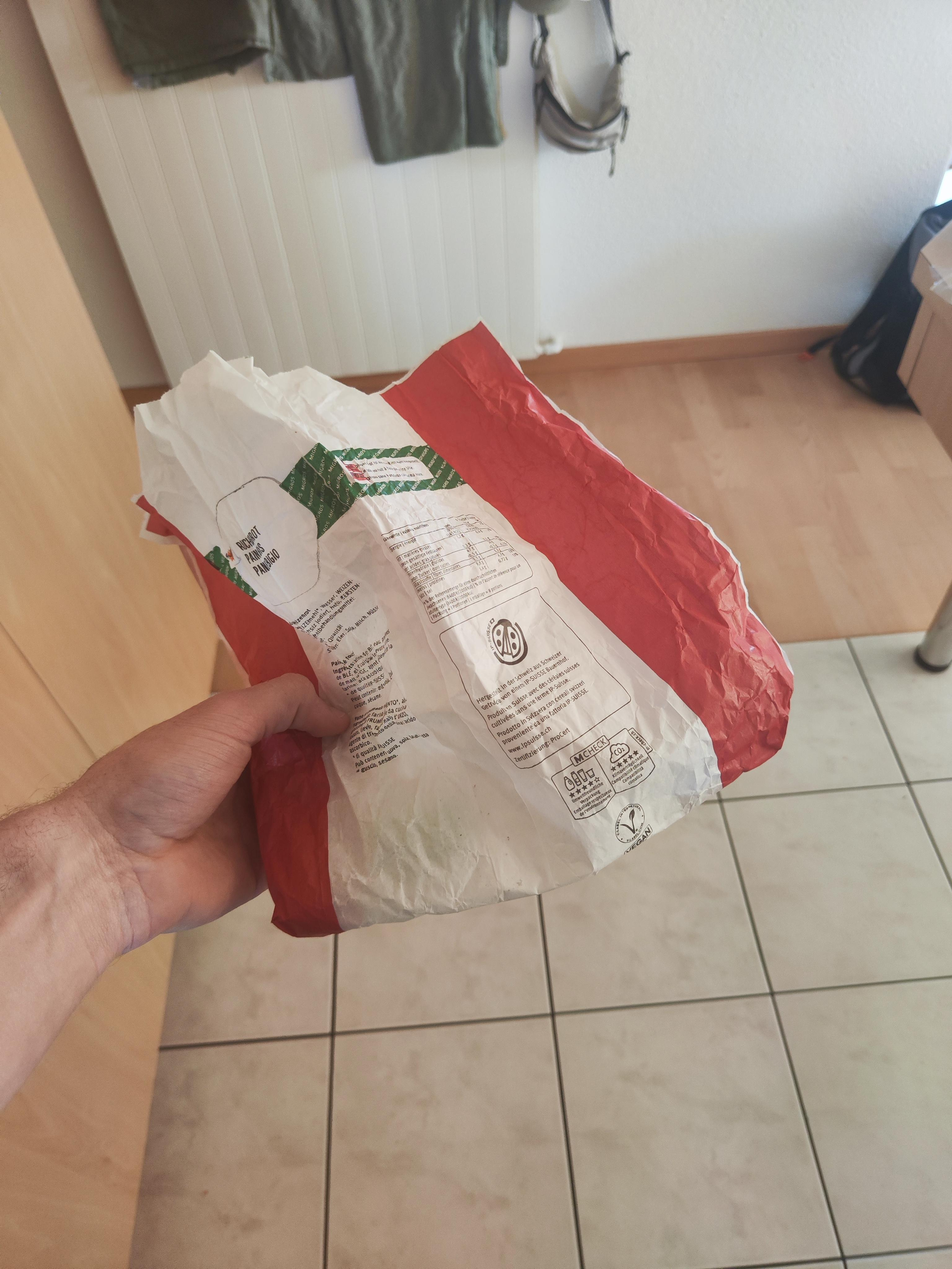Paper: (135, 313, 796, 939)
